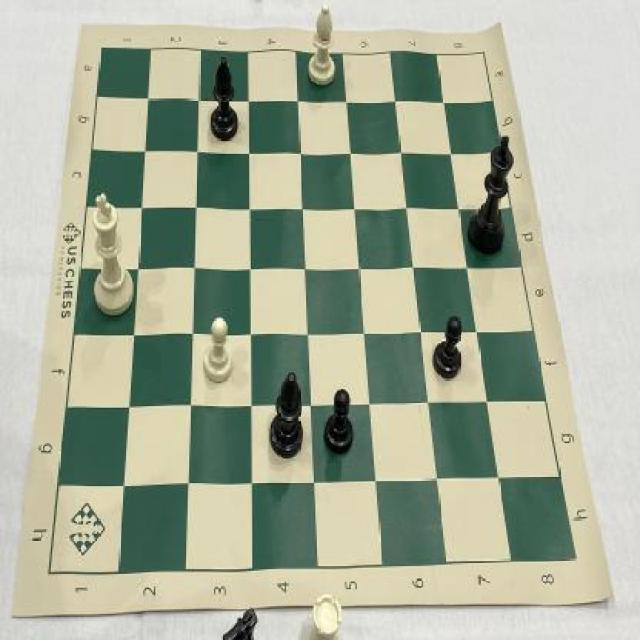bishop: (266, 363, 307, 469), (206, 51, 242, 145)
black-bishop: (463, 126, 522, 266)
black-knight: (318, 383, 358, 460), (429, 309, 466, 389)
black-rook: (301, 0, 344, 92)
white-bishop: (83, 188, 142, 322)
white-knight: (199, 309, 236, 389)
